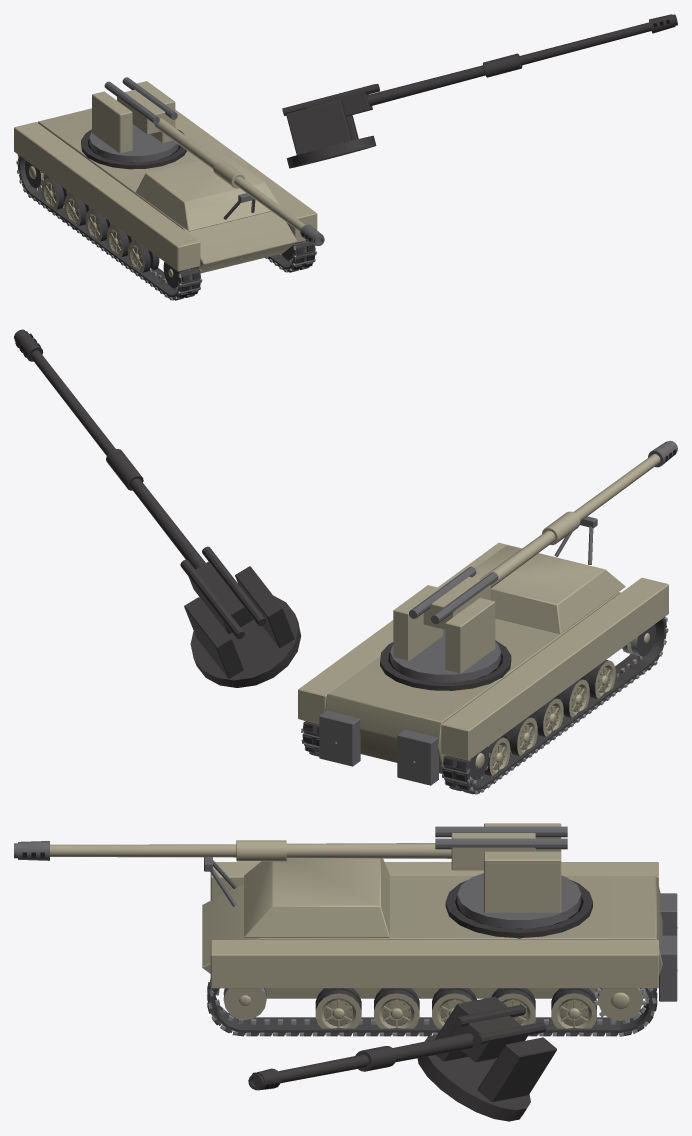
The model's file is artillery__m1989_koksan.glb.
The picture shows the model from 3 angles, top to bottom: view 1: azimuth 30°, elevation 25°; view 2: azimuth 150°, elevation 25°; view 3: azimuth 270°, elevation 25°; orthographic projection. The views are drawn at different scales.
Parts seen in each view (by area): view 1: Hull_Mesh, Wreck, Gun_Mesh, Turret_Mesh, Track_L_Mesh, Track_R_Mesh, Wheel_L4_Mesh, Wheel_L0_Mesh, Wheel_L2_Mesh, Wheel_L1_Mesh, Wheel_L3_Mesh; view 2: Hull_Mesh, Wreck, Turret_Mesh, Gun_Mesh, Track_L_Mesh, Wheel_L1_Mesh, Wheel_L2_Mesh, Wheel_L4_Mesh, Wheel_L3_Mesh, Wheel_L0_Mesh; view 3: Hull_Mesh, Wreck, Gun_Mesh, Turret_Mesh, Track_R_Mesh, Wheel_R4_Mesh, Wheel_R3_Mesh, Wheel_R0_Mesh, Sprocket_R_Mesh, Idler_R_Mesh, Wheel_R2_Mesh, Wheel_R1_Mesh.
Boxes of the visible parts, x1,y1,x2,y2 form: Hull_Mesh: [14, 108, 317, 273]; Wreck: [17, 14, 677, 298]; Gun_Mesh: [104, 77, 324, 245]; Turret_Mesh: [89, 81, 179, 162]; Track_L_Mesh: [16, 155, 202, 300]; Track_R_Mesh: [266, 240, 316, 272]; Wheel_L4_Mesh: [128, 240, 159, 272]; Wheel_L0_Mesh: [42, 177, 71, 209]; Wheel_L2_Mesh: [85, 209, 113, 241]; Wheel_L1_Mesh: [64, 194, 92, 225]; Wheel_L3_Mesh: [107, 225, 135, 256]; Hull_Mesh: [298, 516, 668, 785]; Wreck: [14, 329, 667, 794]; Turret_Mesh: [390, 585, 501, 682]; Gun_Mesh: [409, 440, 677, 629]; Track_L_Mesh: [441, 616, 668, 794]; Wheel_L1_Mesh: [501, 717, 537, 755]; Wheel_L2_Mesh: [528, 698, 563, 736]; Wheel_L4_Mesh: [580, 660, 615, 698]; Wheel_L3_Mesh: [554, 679, 589, 717]; Wheel_L0_Mesh: [484, 737, 510, 775]; Hull_Mesh: [202, 857, 677, 1001]; Wreck: [207, 880, 655, 1121]; Gun_Mesh: [14, 826, 567, 870]; Turret_Mesh: [457, 823, 581, 928]; Track_R_Mesh: [207, 979, 657, 1036]; Wheel_R4_Mesh: [315, 988, 361, 1035]; Wheel_R3_Mesh: [374, 988, 419, 1034]; Wheel_R0_Mesh: [551, 988, 596, 1034]; Sprocket_R_Mesh: [594, 988, 646, 1023]; Idler_R_Mesh: [223, 988, 266, 1019]; Wheel_R2_Mesh: [432, 988, 476, 1028]; Wheel_R1_Mesh: [492, 988, 535, 1025].
Size of what is drawn, in the model's own units: 12.65 by 3.65 by 10.29.
